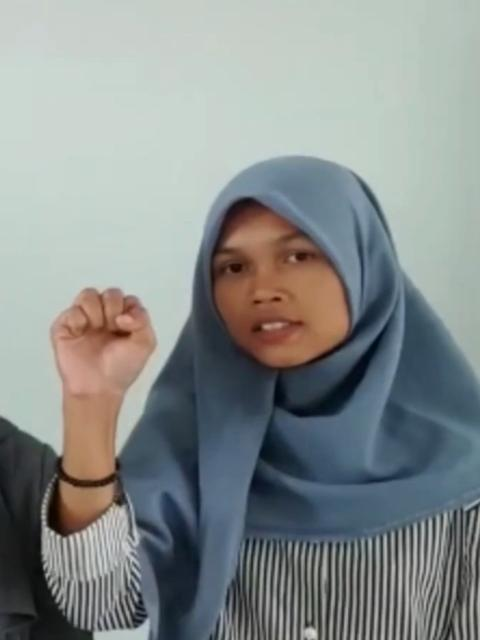S: (51, 284, 159, 400)
